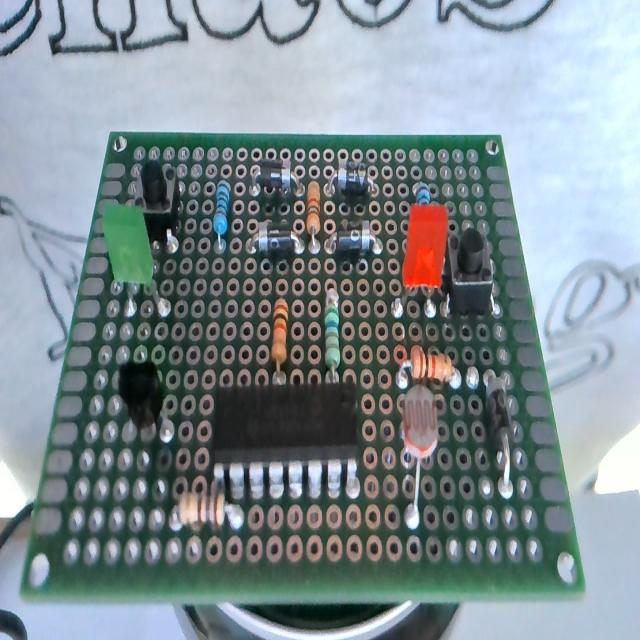IC: (204, 381, 366, 500)
cds: (395, 383, 443, 534)
diode: (478, 360, 526, 498), (246, 218, 304, 261), (247, 158, 305, 198), (323, 162, 381, 201), (324, 223, 383, 260)
led: (100, 204, 168, 321), (392, 203, 448, 319)
resistor: (168, 490, 245, 538), (390, 342, 462, 390), (318, 284, 352, 384), (265, 284, 298, 384), (208, 170, 235, 258), (306, 171, 323, 260)
switch: (132, 160, 191, 251), (448, 227, 497, 318)
transistor: (110, 347, 180, 456)
